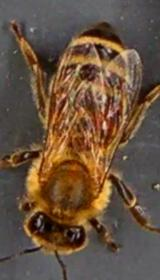varroa_mite: (86, 102, 116, 141)
